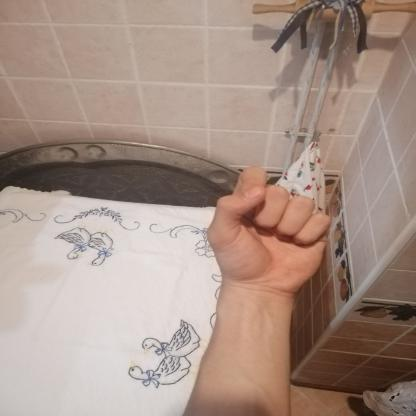FAA: (198, 156, 338, 299)
